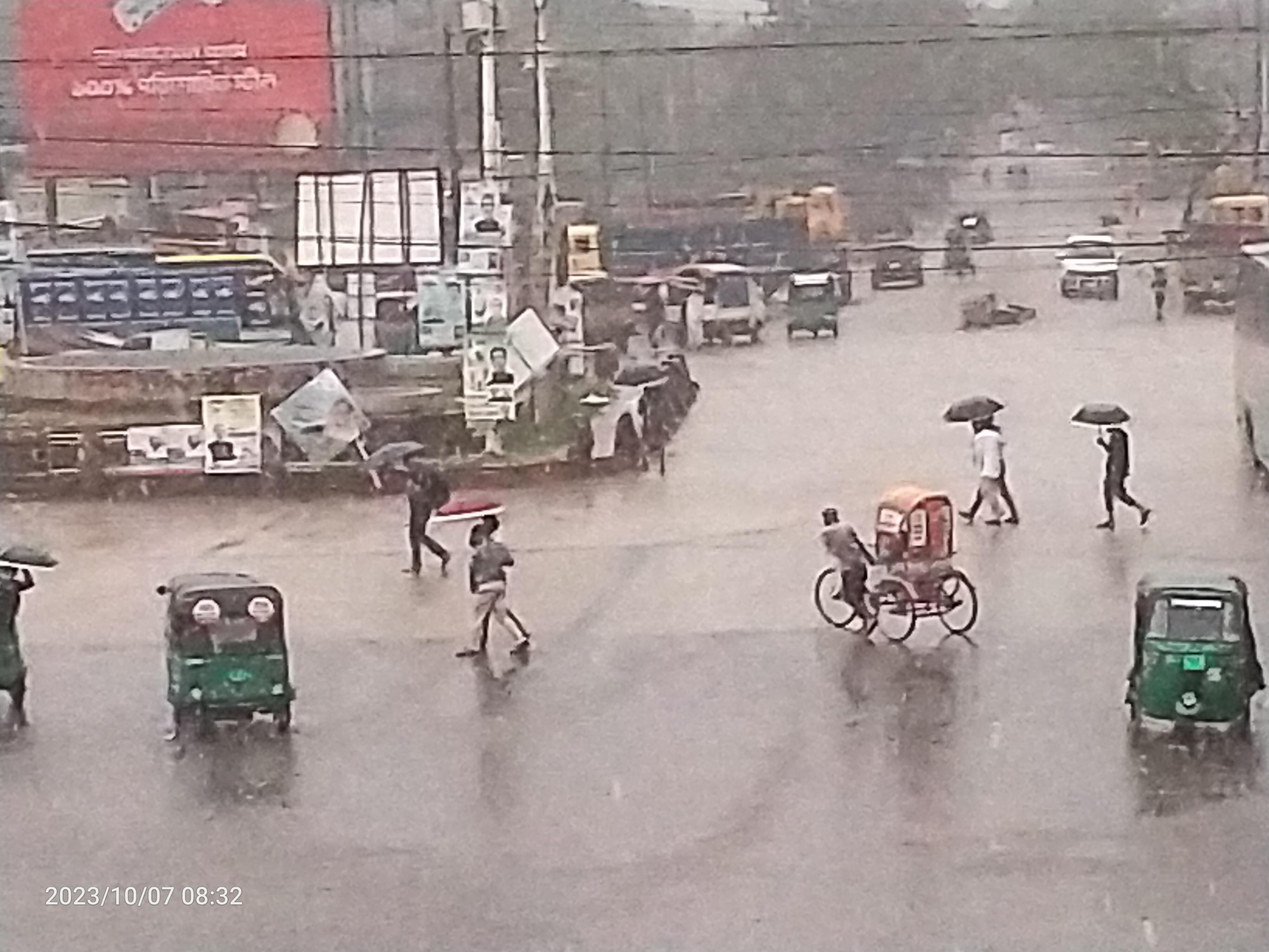Bus: (0, 237, 313, 380), (1216, 235, 1269, 511)
Car: (772, 465, 1021, 668), (648, 241, 775, 362), (1032, 216, 1145, 319), (847, 219, 941, 305)
Truck: (526, 198, 832, 272)
